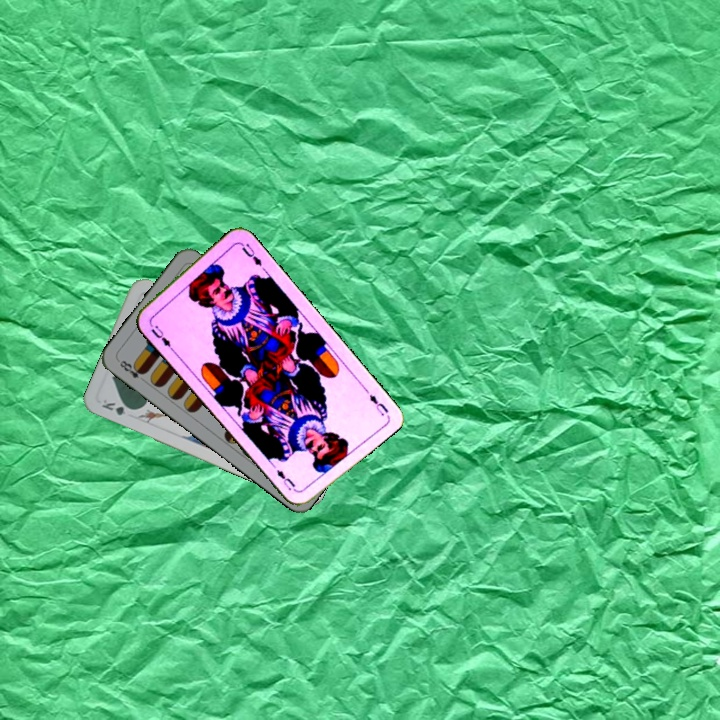E8: (114, 356, 148, 381)
EU: (145, 316, 177, 352), (365, 390, 391, 419)
GK: (97, 395, 137, 418)
